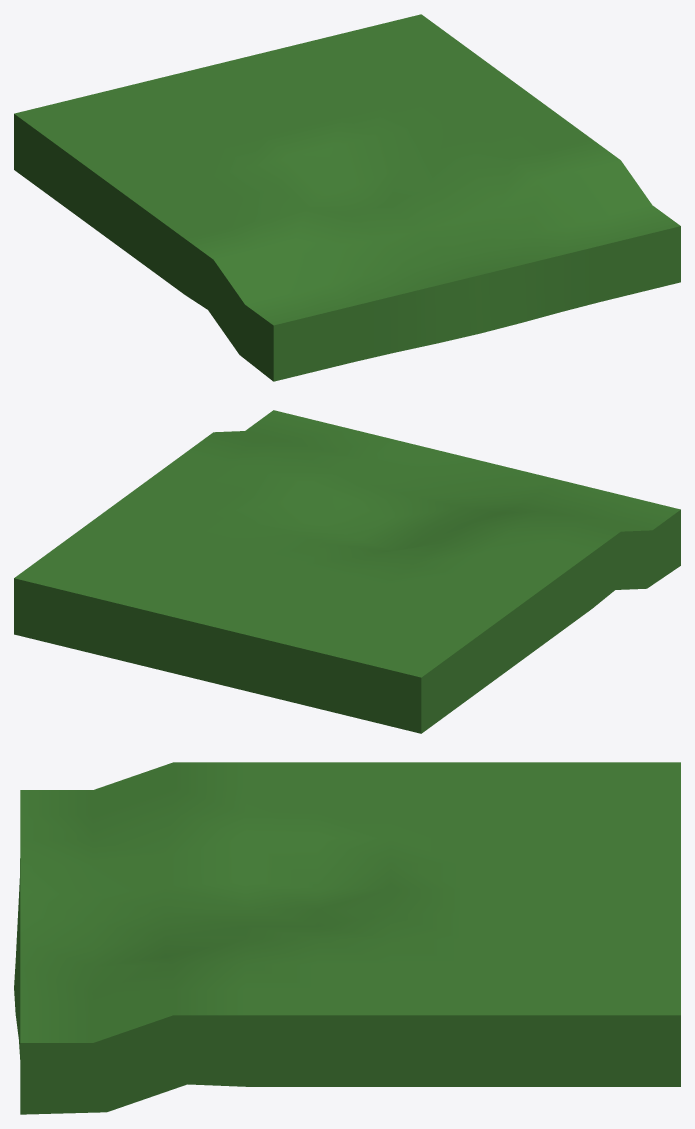
The model's file is Box_Grass.fbx.
3 views of the same model, one above another, from view 1: azimuth 30°, elevation 25°; view 2: azimuth 150°, elevation 25°; view 3: azimuth 270°, elevation 25° (orthographic). The views are drawn at different scales.
Visible parts, largest first — view 1: pPlane1; view 2: pPlane1; view 3: pPlane1.
Part boxes in pixels (x1,y1,x2,y2): pPlane1: (14,14,680,381); pPlane1: (14,410,680,733); pPlane1: (14,762,680,1114).
Bounding box in the file's own units: 13335 × 2574 × 14859.
